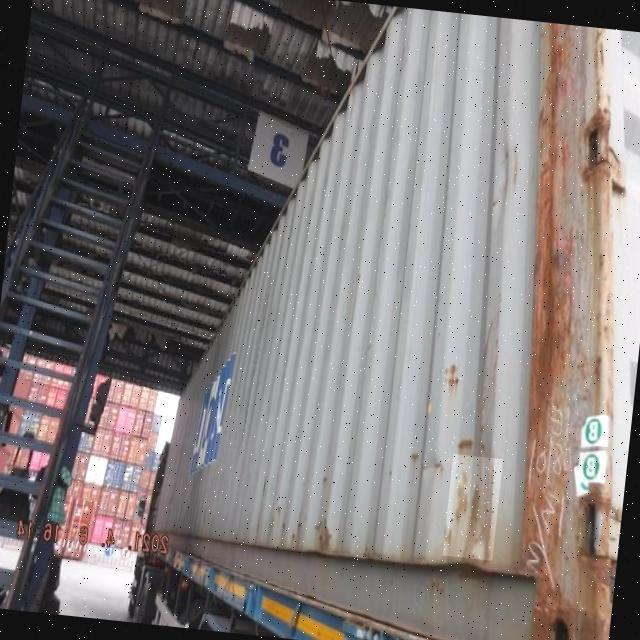Minor-Dent: (443, 454, 503, 561)
